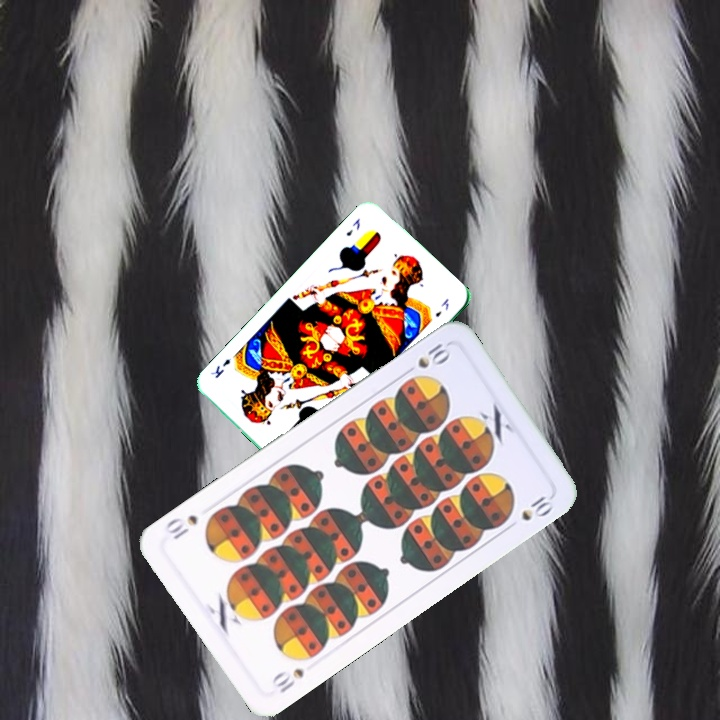EK: (342, 214, 363, 239)
S10: (399, 338, 453, 378), (268, 664, 307, 696)
